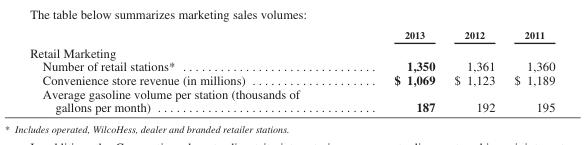table: (29, 28, 554, 113)
table column: (29, 28, 346, 113), (346, 28, 443, 113), (443, 28, 503, 113), (503, 28, 554, 113)
table column header: (29, 28, 554, 42)
table projected row header: (29, 42, 554, 58)
table row: (29, 86, 554, 113), (29, 42, 554, 58), (29, 28, 554, 42), (29, 58, 554, 72), (29, 72, 554, 86)
